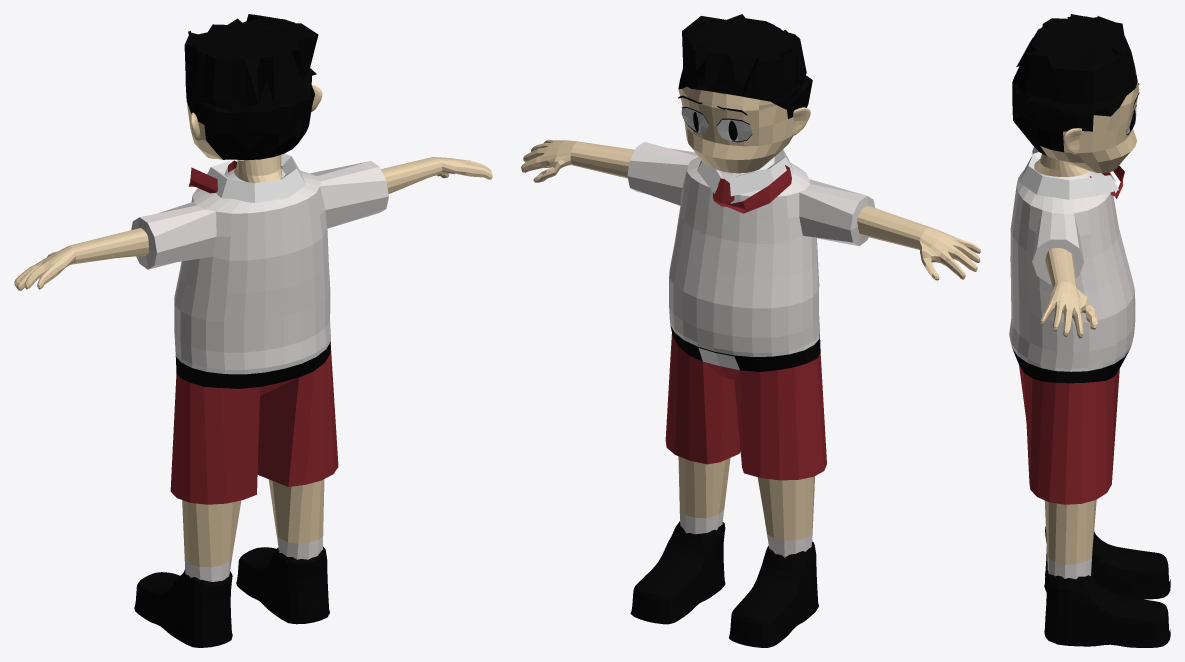
Rendered from enemy3.fbx.
The picture shows the model from 3 angles, left to right: view 1: azimuth 30°, elevation 25°; view 2: azimuth 150°, elevation 25°; view 3: azimuth 270°, elevation 25°; orthographic projection. The views are drawn at different scales.
Parts seen in each view (by area): view 1: Cylinder, Cube, Cube.001, Cube.002, Cube.003; view 2: Cylinder, Cube.001, Cube, Cube.002, Cube.003, Plane, Sphere; view 3: Cylinder, Cube.001, Cube, Cube.003, Cube.005.
Boxes of the visible parts, x1,y1,x2,y2 form: Cylinder: (131,14,388,581); Cube: (134,569,232,647); Cube.001: (236,546,329,624); Cube.002: (14,228,148,290); Cube.003: (381,157,492,193); Cylinder: (627,14,875,557); Cube.001: (630,521,725,624); Cube: (729,541,818,647); Cube.002: (857,205,980,280); Cube.003: (521,139,634,182); Plane: (713,165,791,213); Sphere: (716,118,752,142); Cylinder: (1009,14,1139,579); Cube.001: (1044,569,1170,647); Cube: (1044,526,1170,599); Cube.003: (1040,248,1097,338); Cube.005: (1063,128,1081,154).
Bounding box in the file's own units: 337 × 403 × 103.
